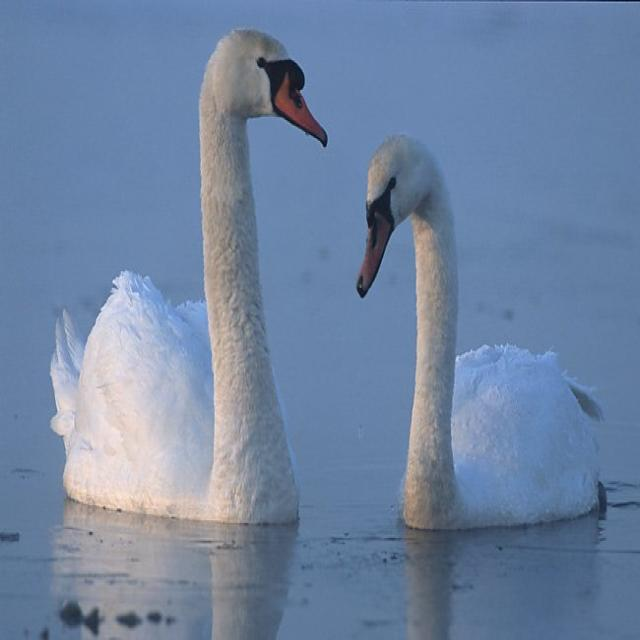swan: (51, 30, 326, 522), (356, 136, 602, 528)
